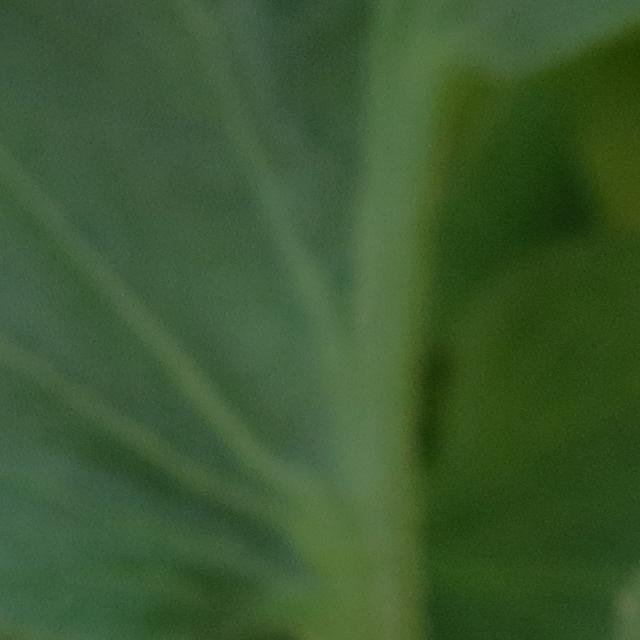Tomato leaf late blight: (491, 0, 640, 640)
